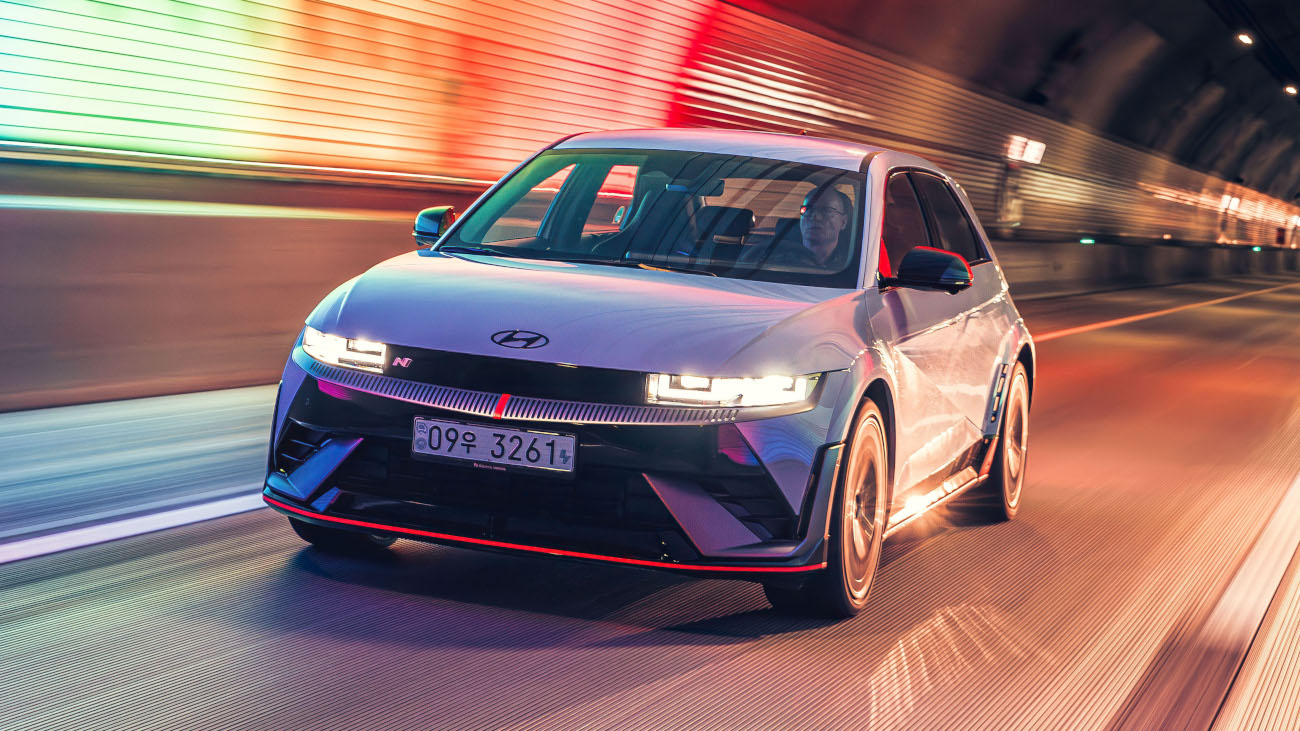car: (261, 125, 1039, 622)
